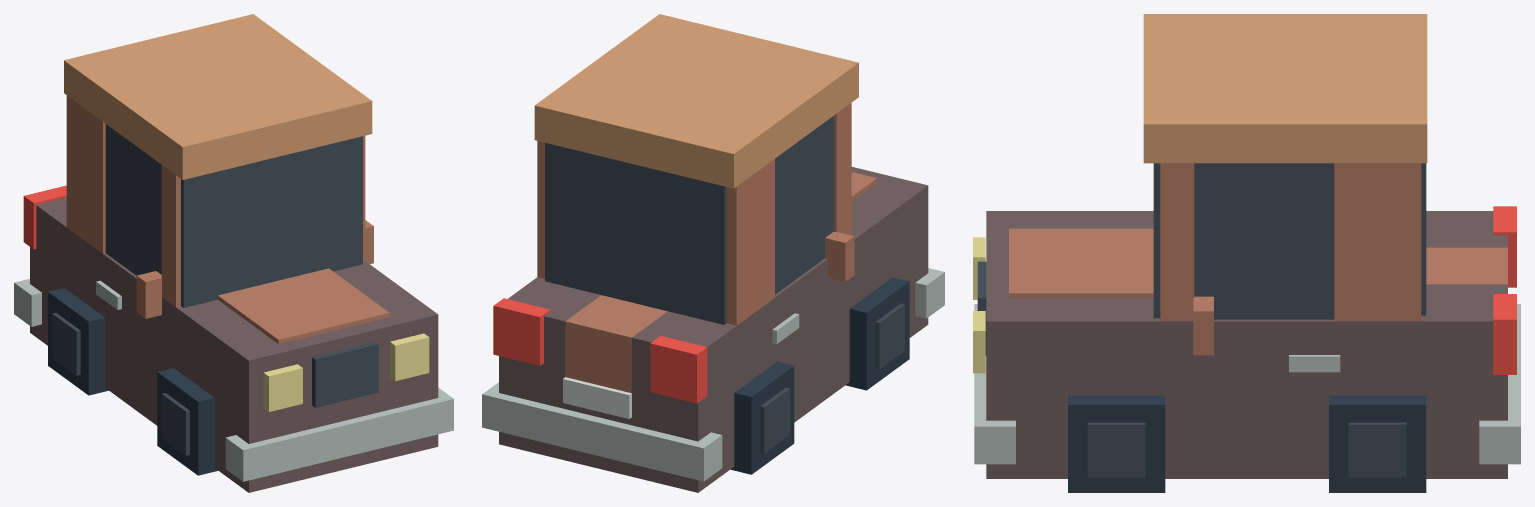
The model's file is Car_Brown.fbx.
3 views of the same model, side by side, from view 1: azimuth 30°, elevation 25°; view 2: azimuth 150°, elevation 25°; view 3: azimuth 270°, elevation 25° (orthographic). The views are drawn at different scales.
Parts seen in each view (by area): view 1: polySurface97; view 2: polySurface97; view 3: polySurface97.
Part boxes in pixels (bbox=[...]): polySurface97: bbox=[14, 14, 453, 492]; polySurface97: bbox=[482, 14, 944, 492]; polySurface97: bbox=[973, 14, 1520, 492].
Bounding box in the file's own units: 3.68 × 4.56 × 6.3.
